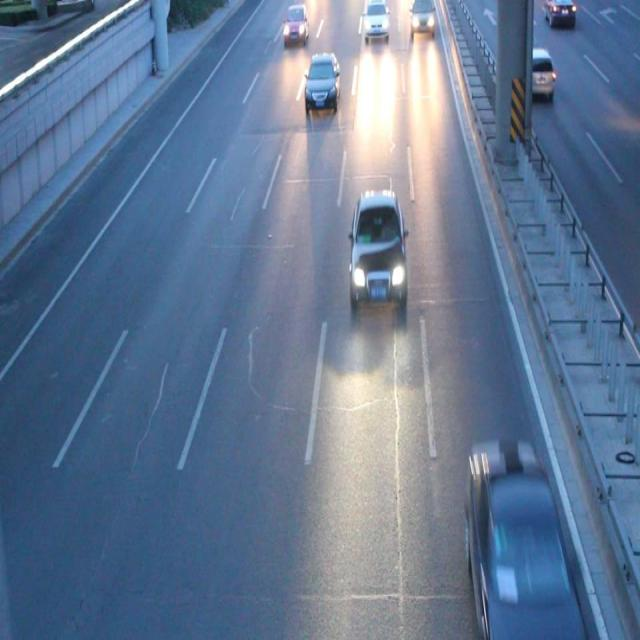car: (465, 436, 587, 640), (350, 190, 405, 298), (304, 54, 338, 104), (519, 46, 552, 90), (283, 1, 308, 42), (363, 1, 388, 36), (544, 1, 575, 25), (410, 1, 433, 31)
